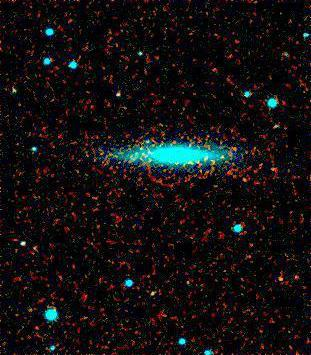star: (267, 265, 297, 295)
